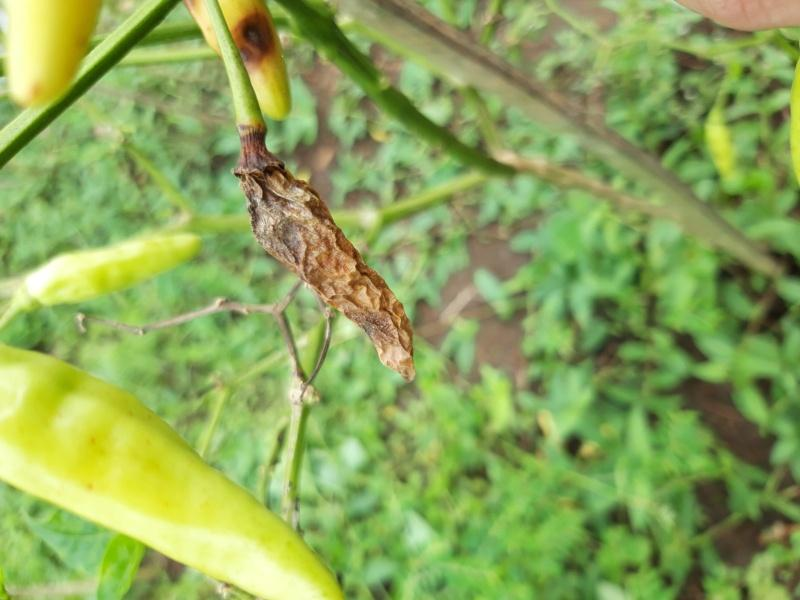antraknosa: (249, 166, 415, 380), (189, 1, 291, 120)
cabai_normal: (1, 342, 341, 599), (33, 231, 203, 309)
